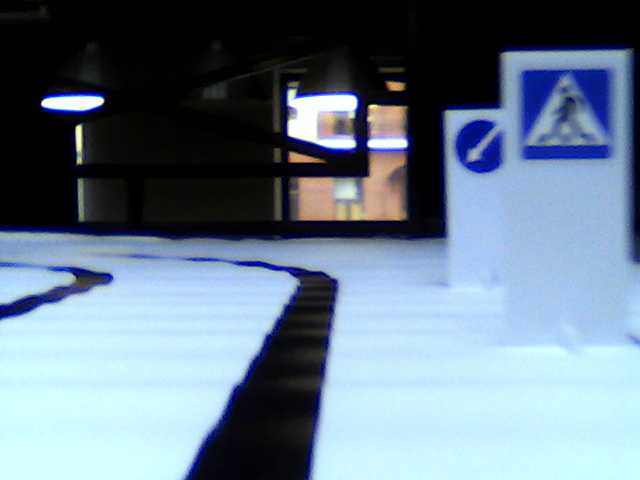pesh: (521, 70, 609, 158)
prep: (453, 116, 505, 177)
